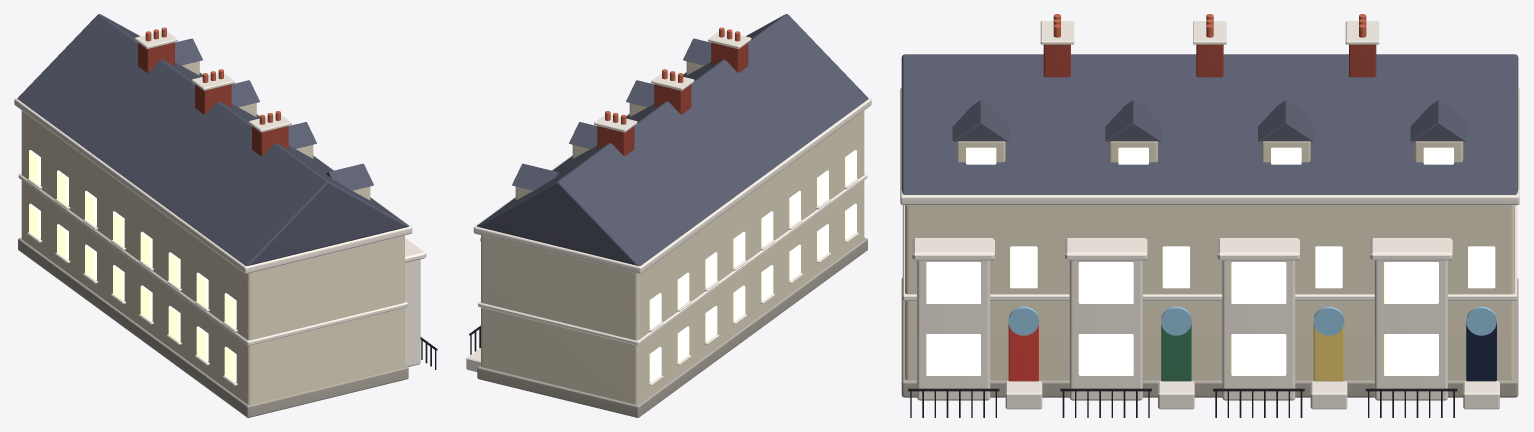
File: townhouse_row_b.glb
The picture shows the model from 3 angles, left to right: view 1: azimuth 30°, elevation 25°; view 2: azimuth 150°, elevation 25°; view 3: azimuth 270°, elevation 25°; orthographic projection. The views are drawn at different scales.
Visible parts, largest first — view 1: townhouse_row_b; view 2: townhouse_row_b; view 3: townhouse_row_b.
Boxes of the visible parts, left/top/right/bottom form: townhouse_row_b: left=14, top=14, right=437, bottom=417; townhouse_row_b: left=466, top=14, right=871, bottom=417; townhouse_row_b: left=900, top=14, right=1519, bottom=417.
Bounding box in the file's own units: 9.89 × 11.75 × 20.3.
1 material, 1 textured.
